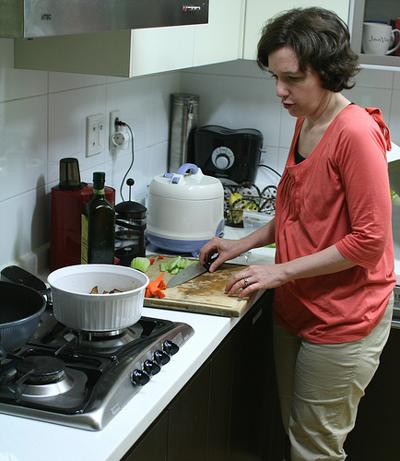person: (198, 8, 394, 461)
